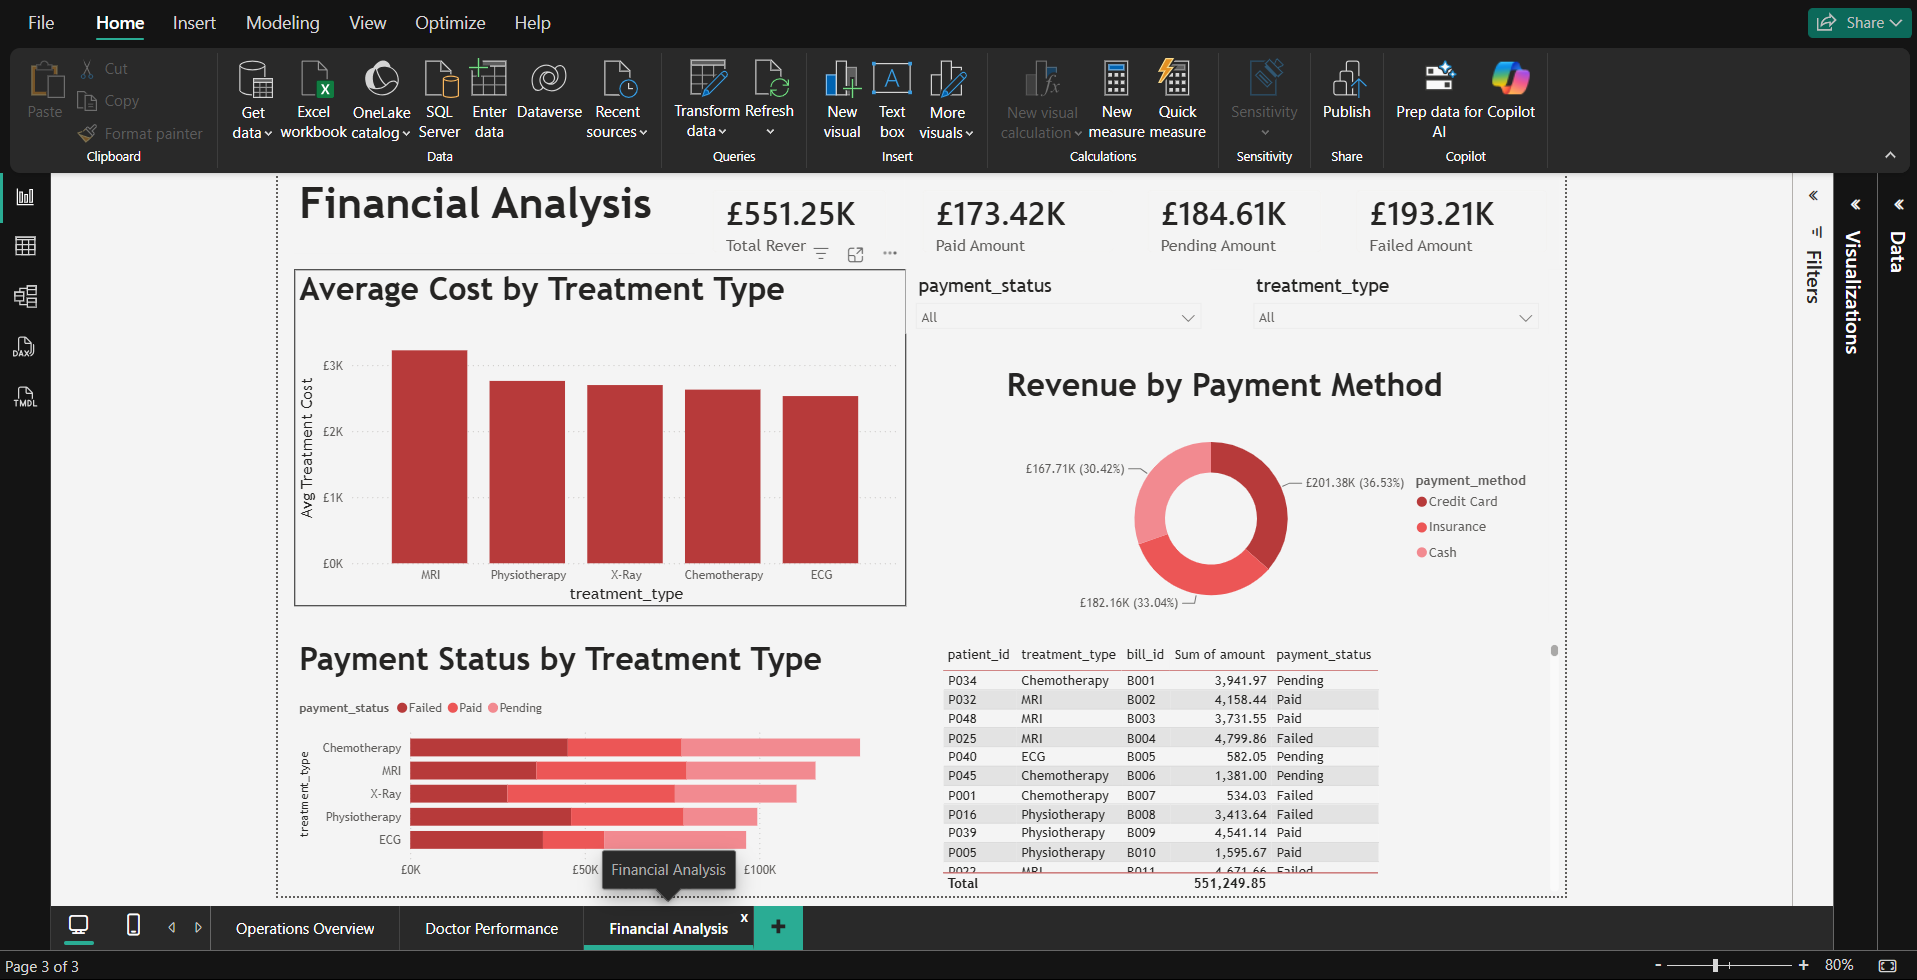

Layout of this report page (visuals, bound fields, positions):
{"tool":"powerbi","page":{"name":"Financial Analysis","canvas":[1280,720],"ordinal":2},"visuals":[{"type":"textbox","box":[16,0,400,80],"z":0},{"type":"cardVisual","fields":{"Data":["_Measures.Total Revenue"]},"box":[416,0,208,96],"z":1},{"type":"cardVisual","fields":{"Data":["_Measures.Paid Amount"]},"box":[624,0,224,96],"z":2},{"type":"cardVisual","fields":{"Data":["_Measures.Pending Amount"]},"box":[848,0,208,96],"z":3},{"type":"cardVisual","fields":{"Data":["_Measures.Failed Amount"]},"box":[1056,0,224,96],"z":4},{"type":"columnChart","title":"Average Cost by Treatment Type","fields":{"Category":["treatments.treatment_type"],"Y":["_Measures.Avg Treatment Cost"]},"box":[16,96,608,336],"z":5},{"type":"barChart","title":"Payment Status by Treatment Type","fields":{"Category":["treatments.treatment_type"],"Series":["billing.payment_status"],"Y":["_Measures.Total Revenue"]},"box":[16,464,624,256],"z":6},{"type":"donutChart","title":"Revenue by Payment Method","fields":{"Category":["billing.payment_method"],"Y":["_Measures.Total Revenue"]},"box":[720,192,544,256],"z":7},{"type":"tableEx","fields":{"Values":["patients.patient_id","treatments.treatment_type","billing.bill_id","Sum(billing.amount)","billing.payment_status"]},"box":[656,464,624,256],"z":8},{"type":"slicer","fields":{"Values":["billing.payment_status"]},"box":[624,96,304,64],"z":9},{"type":"slicer","fields":{"Values":["treatments.treatment_type"]},"box":[960,96,304,64],"z":10}]}

Visuals, with their boxes on the page's 1280x720 design canvas (x1, y1, x2, y2). These are canvas units, not pixel positions in the 1917x980 screenshot, which may show the page scaled, cropped or inside an application window:
textbox: bbox(16, 0, 416, 80)
cardVisual - _Measures.Total Revenue: bbox(416, 0, 624, 96)
cardVisual - _Measures.Paid Amount: bbox(624, 0, 848, 96)
cardVisual - _Measures.Pending Amount: bbox(848, 0, 1056, 96)
cardVisual - _Measures.Failed Amount: bbox(1056, 0, 1280, 96)
"Average Cost by Treatment Type" columnChart: bbox(16, 96, 624, 432)
"Payment Status by Treatment Type" barChart: bbox(16, 464, 640, 720)
"Revenue by Payment Method" donutChart: bbox(720, 192, 1264, 448)
tableEx - patients.patient_id x treatments.treatment_type: bbox(656, 464, 1280, 720)
slicer - billing.payment_status: bbox(624, 96, 928, 160)
slicer - treatments.treatment_type: bbox(960, 96, 1264, 160)
